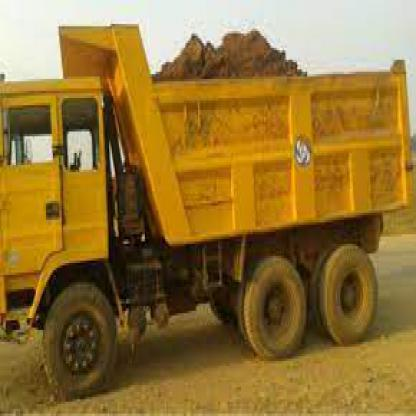tiper: (0, 14, 408, 400)
